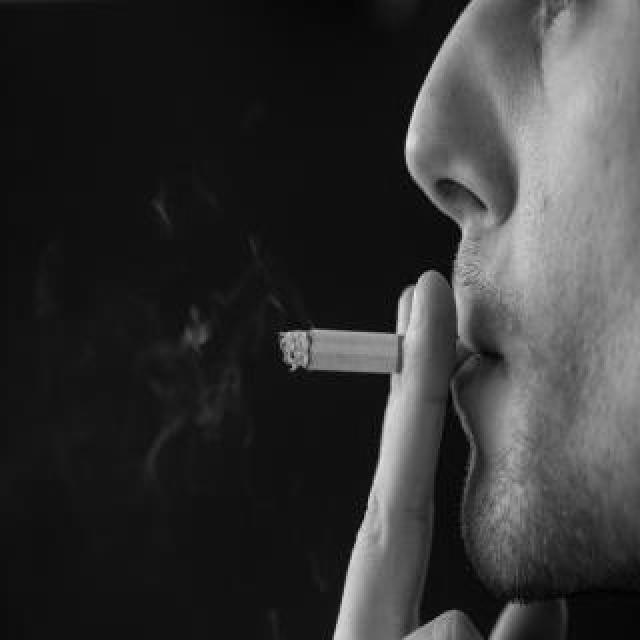smoke: (24, 170, 290, 512)
